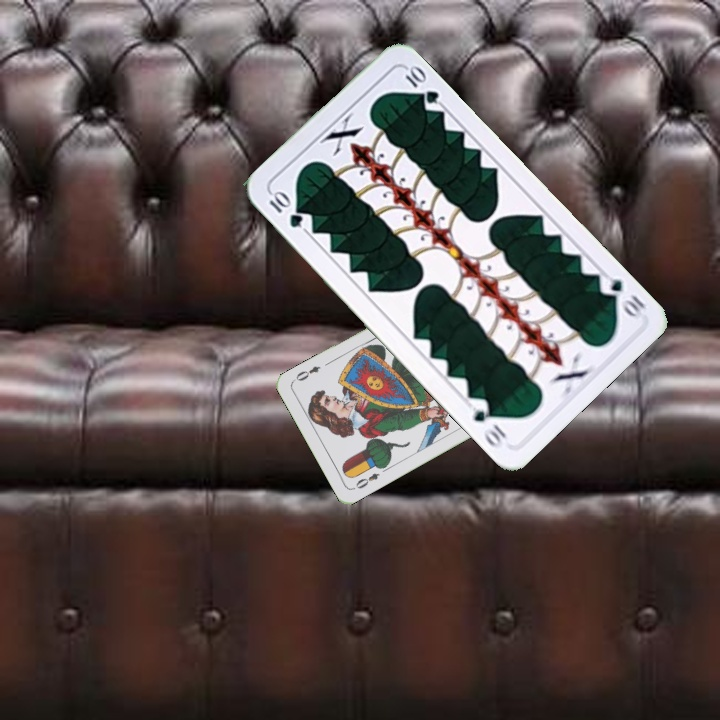EO: (351, 469, 382, 491)
G10: (594, 269, 649, 320), (265, 186, 306, 231)
